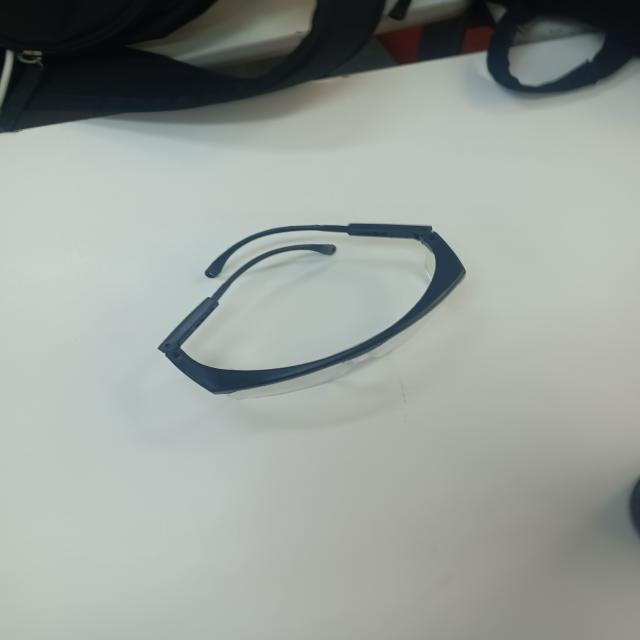oculos-epi: (158, 224, 466, 398)
